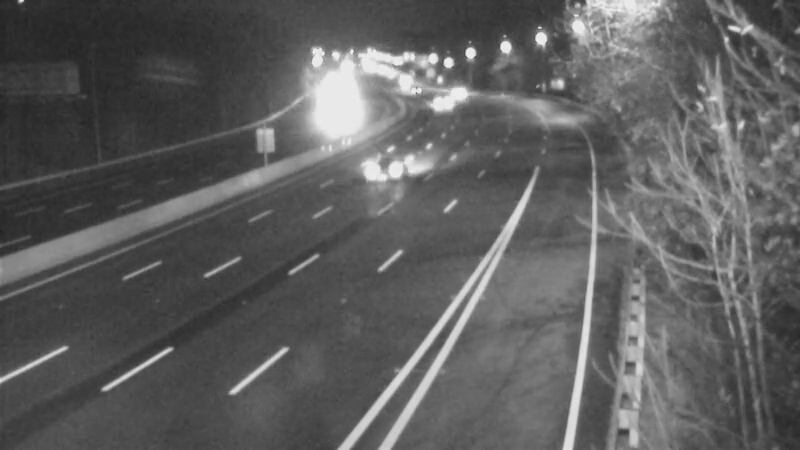vehicle: (354, 129, 434, 209), (392, 61, 442, 111), (434, 69, 484, 119), (415, 76, 465, 126), (302, 86, 352, 136)
